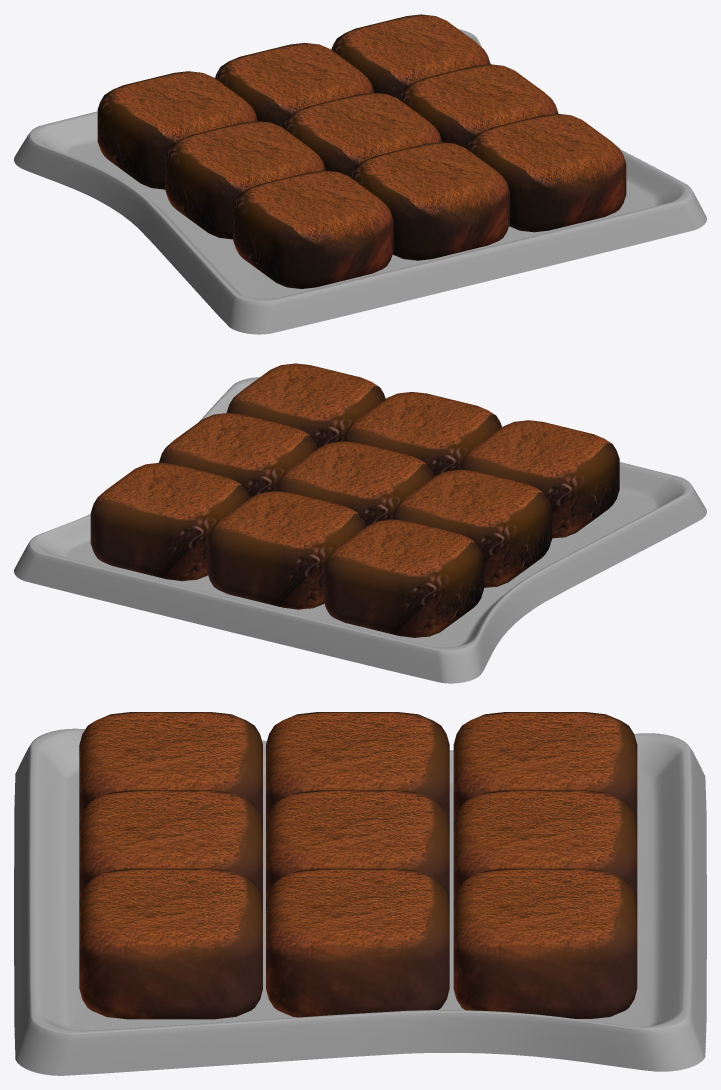
Rendered from tuffle cake (1).fbx.
3 renders of one model, top to bottom at view 1: azimuth 30°, elevation 25°; view 2: azimuth 150°, elevation 25°; view 3: azimuth 270°, elevation 25°, orthographic. The views are drawn at different scales.
Visible parts, largest first — view 1: pCube15, pCube11, pCube9, pCube10, pCube14, pCube8, pCube12, pCube13, pCube5, pCube4; view 2: pCube15, pCube14, pCube13, pCube12, pCube8, pCube11, pCube4, pCube5, pCube9, pCube10; view 3: pCube15, pCube9, pCube12, pCube5, pCube13, pCube14, pCube11, pCube8, pCube10, pCube4.
Boxes of the visible parts, x1,y1,x2,y2 form: pCube15: (14,29,706,334); pCube11: (233,170,393,288); pCube9: (467,113,626,232); pCube10: (350,142,509,260); pCube14: (97,71,257,189); pCube8: (165,121,325,239); pCube12: (331,14,490,99); pCube13: (215,43,374,127); pCube5: (399,64,558,148); pCube4: (283,92,441,177); pCube15: (14,377,706,683); pCube14: (323,519,483,637); pCube13: (207,491,366,609); pCube12: (90,462,249,581); pCube8: (391,469,551,587); pCube11: (459,420,619,538); pCube4: (275,441,434,526); pCube5: (159,413,317,497); pCube9: (226,363,385,447); pCube10: (343,392,501,476); pCube15: (14,728,706,1075); pCube9: (79,868,262,1019); pCube12: (453,868,637,1018); pCube5: (266,868,449,1017); pCube13: (453,790,637,900); pCube14: (453,712,637,822); pCube11: (79,712,262,822); pCube8: (266,712,449,822); pCube10: (79,790,262,900); pCube4: (266,790,449,900).
Size of the model in its own units: 4.1 by 0.5816 by 3.77.
2 materials, 1 textured.
